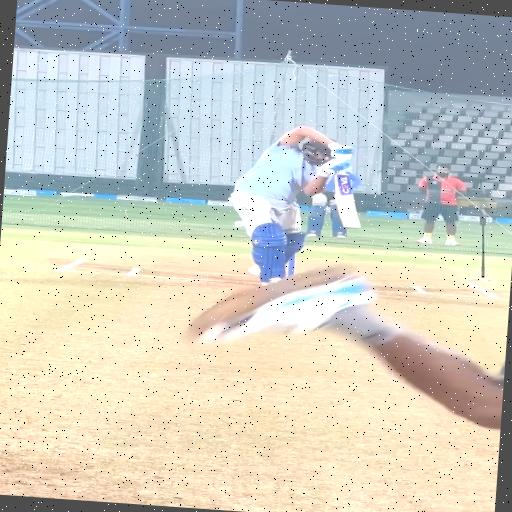Cricket bat: (334, 169, 361, 228)
